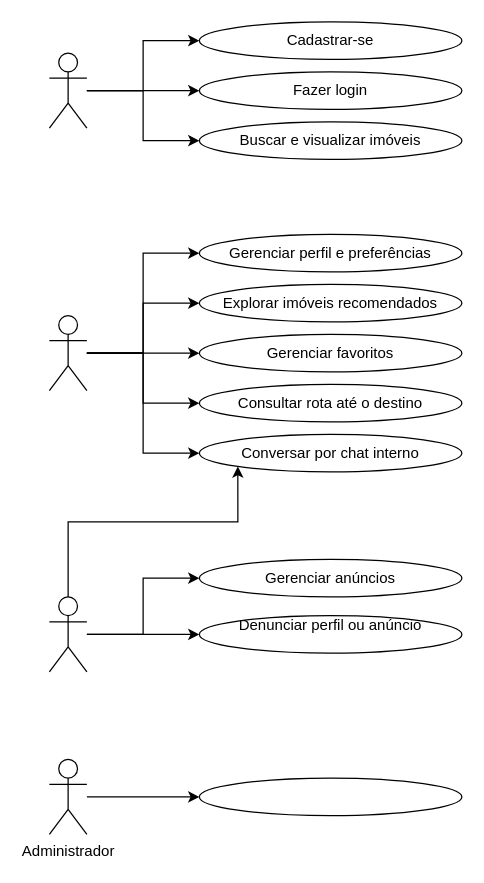
The diagram is 484 pixels wide and 883 high, and some of its shapes have lost their labels. The shapes that lost their labels are listed below. From the top down, each one's centre as x and y in pixels, then its label:
At point (67, 90): "Visitante".
At point (67, 352): "Locatário".
At point (67, 634): "Locador".
At point (330, 796): "Moderar conteúdo e usuários".
